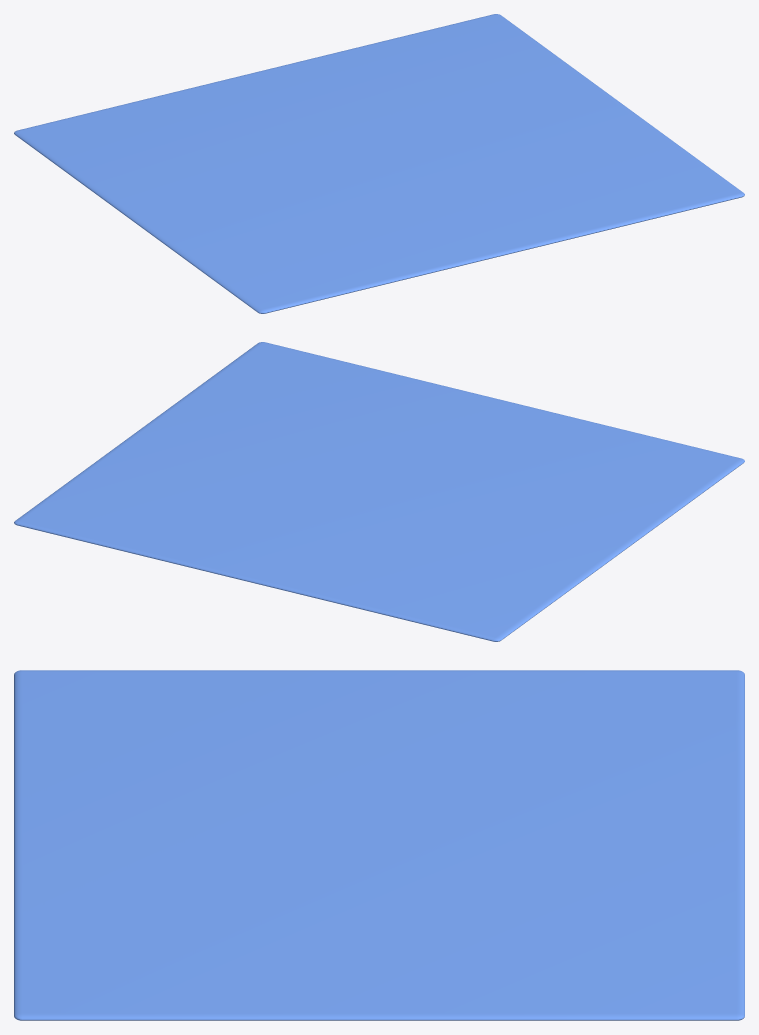
Rendered from carpet.glb.
The picture shows the model from 3 angles, top to bottom: view 1: azimuth 30°, elevation 25°; view 2: azimuth 150°, elevation 25°; view 3: azimuth 270°, elevation 25°; orthographic projection. The views are drawn at different scales.
Visible parts, largest first — view 1: carpet; view 2: carpet; view 3: carpet.
Boxes of the visible parts, x1,y1,x2,y2 form: carpet: [14, 14, 744, 313]; carpet: [14, 342, 744, 641]; carpet: [14, 670, 744, 1020].
Size of the model in its own units: 1.68 by 0.0116 by 1.48.
